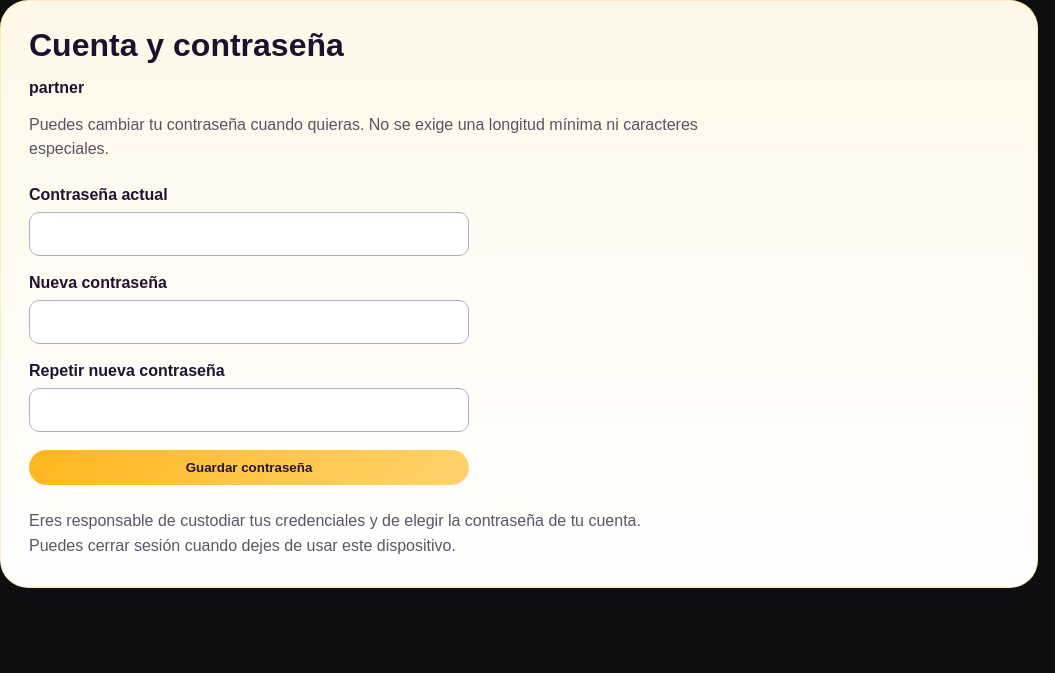
Test: voluntary short password change replaces the session and clears fields
The image size is (1055, 673).
Type "partner" into the password field labelled "Contraseña actual" at (249, 234), box [29,212,469,256]
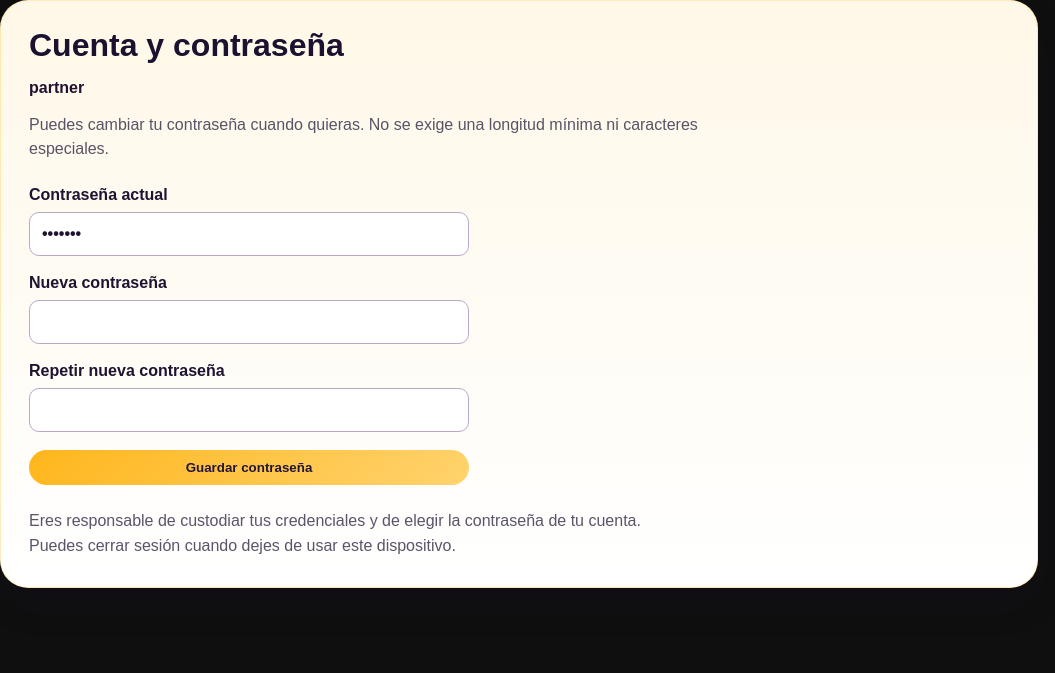
Type "abc" into the password field labelled "Nueva contraseña" at (249, 322), box [29,300,469,344]
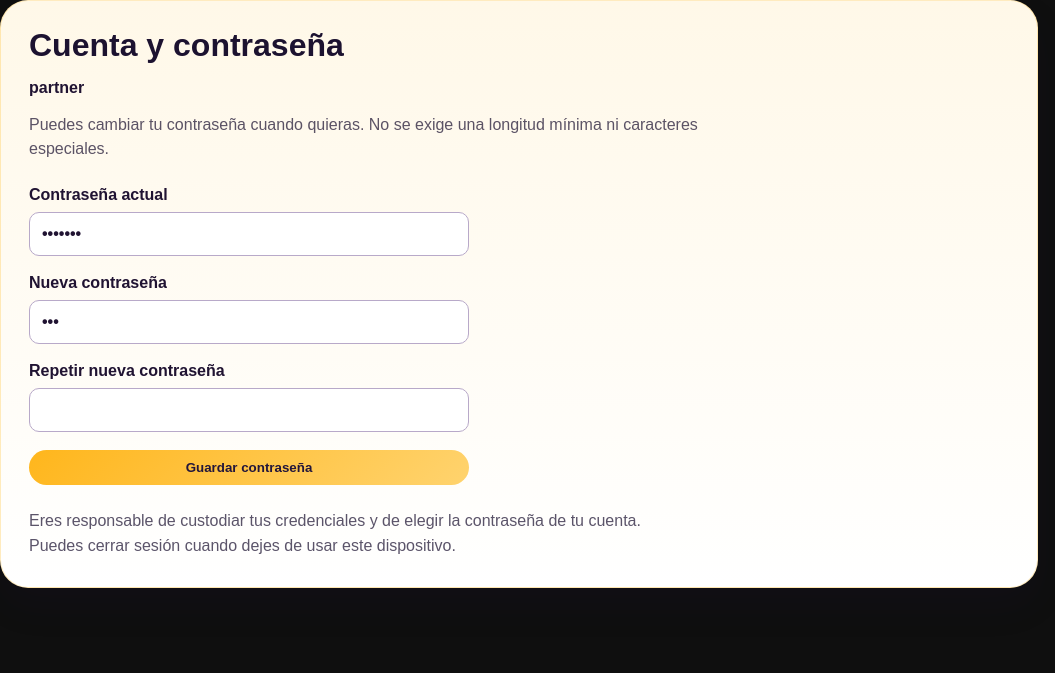
Type "abc" into the password field labelled "Repetir nueva contraseña" at (249, 410), box [29,388,469,432]
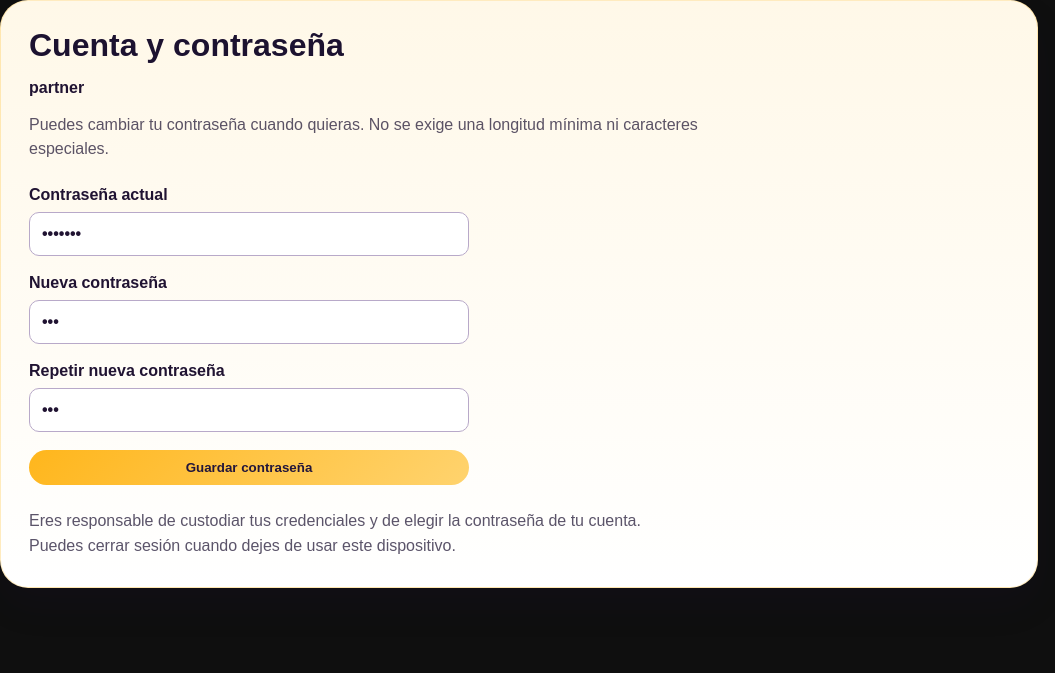
Click the button "Guardar contraseña" at (249, 468), box [29,450,469,485]
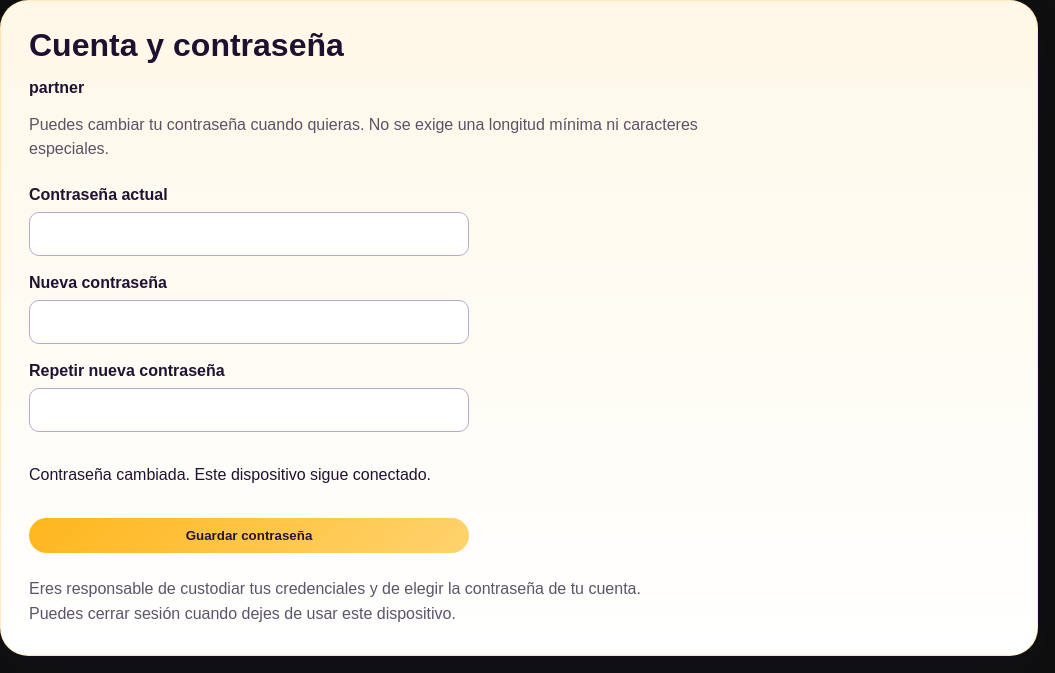
Now the message shows "Contraseña cambiada", box [29,466,431,483]
Now the password field labelled "Nueva contraseña" is empty, box [29,300,469,344]
